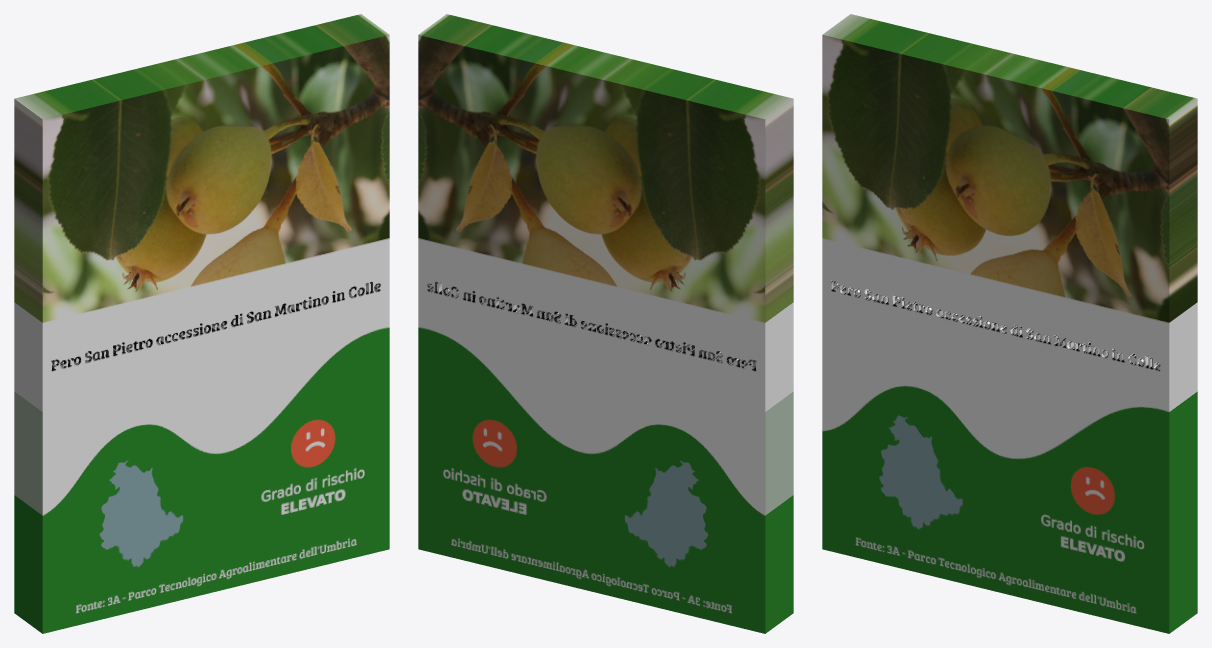
3 renders of one model, left to right at view 1: azimuth 30°, elevation 25°; view 2: azimuth 150°, elevation 25°; view 3: azimuth 330°, elevation 25°, orthographic.
Size of the model in its own units: 0.1542 by 0.2184 by 0.0219.
1 material, 1 textured.
